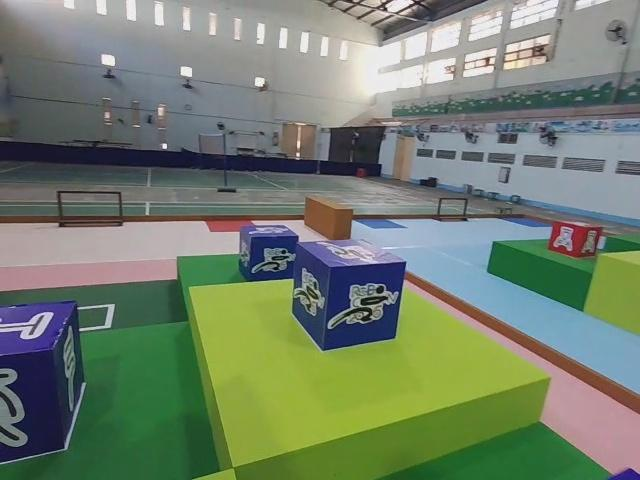R1 Blue: (291, 238, 407, 351), (240, 226, 302, 285)
R2 Fake Blue: (0, 296, 85, 473)
